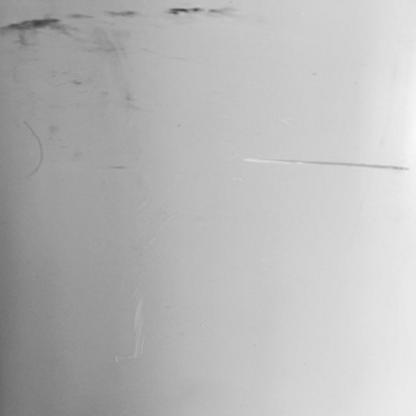sunshang: (246, 150, 410, 176), (18, 119, 46, 177)
